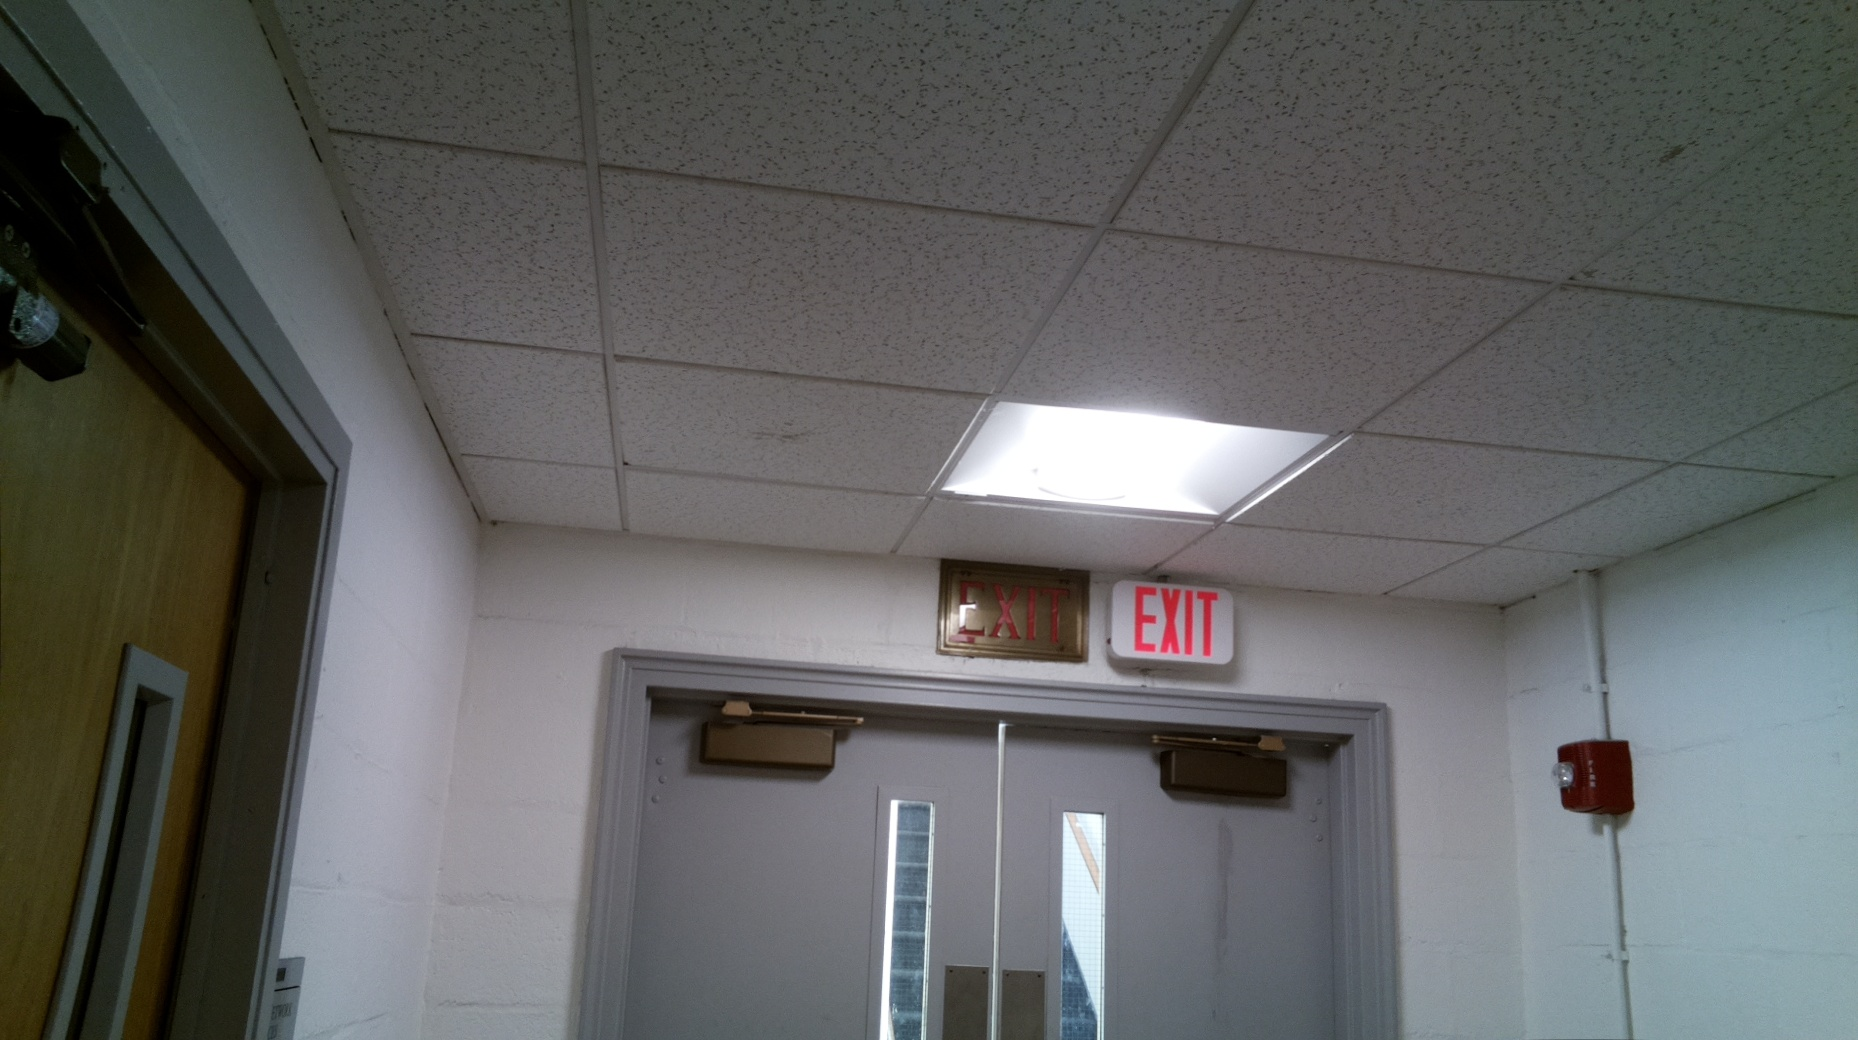exit sign: (930, 556, 1099, 671), (1108, 573, 1243, 680)
